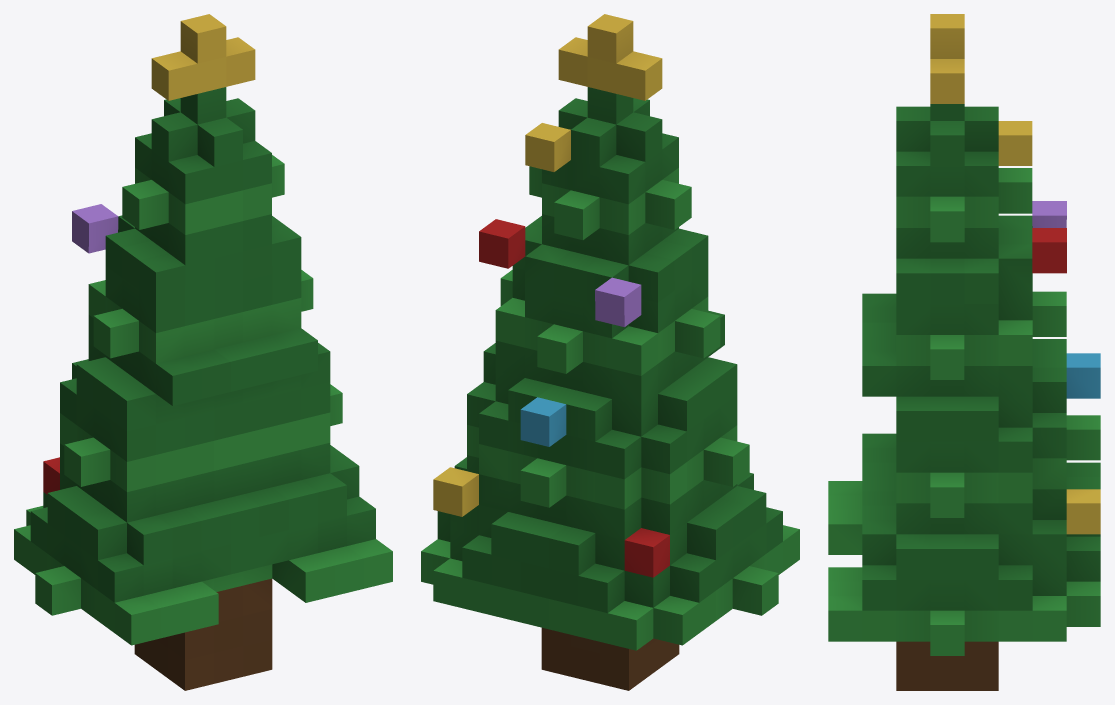
Rendered from back_xmastree.glb.
3 renders of one model, left to right at view 1: azimuth 30°, elevation 25°; view 2: azimuth 150°, elevation 25°; view 3: azimuth 270°, elevation 25°, orthographic.
Parts seen in each view (by area): view 1: Back; view 2: Back; view 3: Back.
Boxes of the visible parts, x1,y1,x2,y2 form: Back: (14,14,392,690); Back: (421,14,799,690); Back: (828,14,1100,690).
Bounding box in the file's own units: 1.21 × 2.31 × 0.8799.
